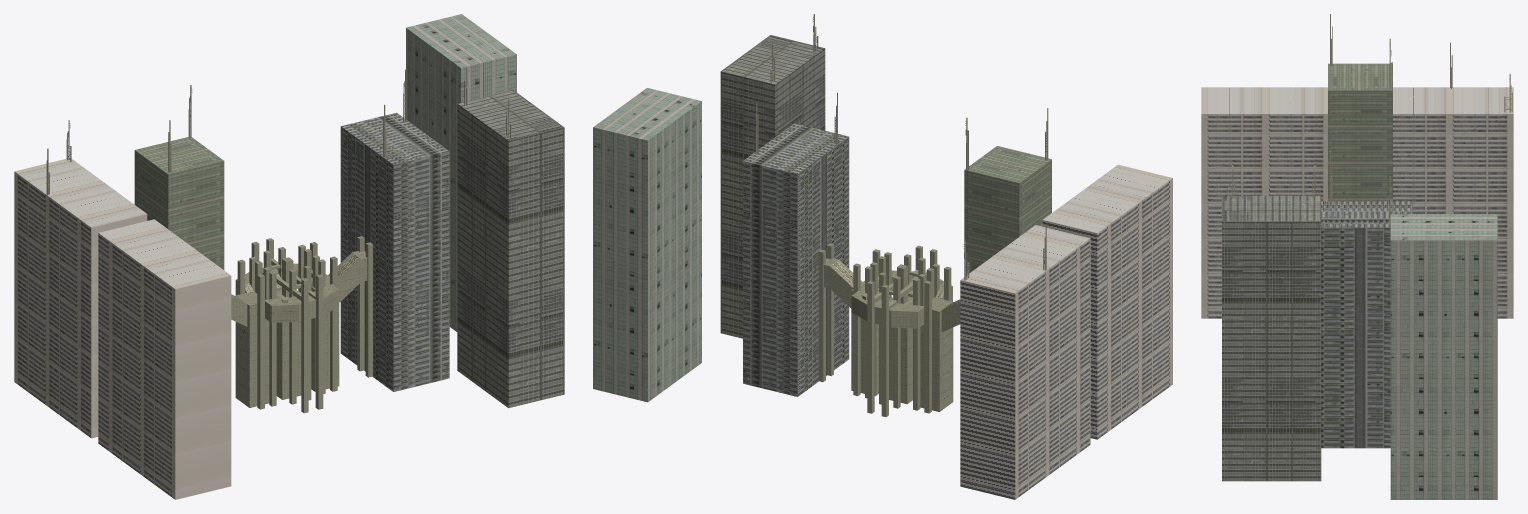
The model's file is SM_Republic_07_00.fbx.
3 views of the same model, side by side, from view 1: azimuth 30°, elevation 25°; view 2: azimuth 150°, elevation 25°; view 3: azimuth 270°, elevation 25° (orthographic). The views are drawn at different scales.
Parts seen in each view (by area): view 1: SM_Republic_07_00.002, SM_Republic_07_00.003, SM_Republic_07_00; view 2: SM_Republic_07_00.002, SM_Republic_07_00.003, SM_Republic_07_00; view 3: SM_Republic_07_00.002.
Boxes of the visible parts, x1=… form: SM_Republic_07_00.002: x1=14, y1=14, x2=564, y2=499; SM_Republic_07_00.003: x1=235, y1=290, x2=372, y2=413; SM_Republic_07_00: x1=231, y1=236, x2=372, y2=333; SM_Republic_07_00.002: x1=593, y1=14, x2=1172, y2=499; SM_Republic_07_00.003: x1=818, y1=297, x2=953, y2=416; SM_Republic_07_00: x1=818, y1=243, x2=960, y2=339; SM_Republic_07_00.002: x1=1201, y1=14, x2=1513, y2=499.
Size of the model in its own units: 27629 by 19002 by 17543.
